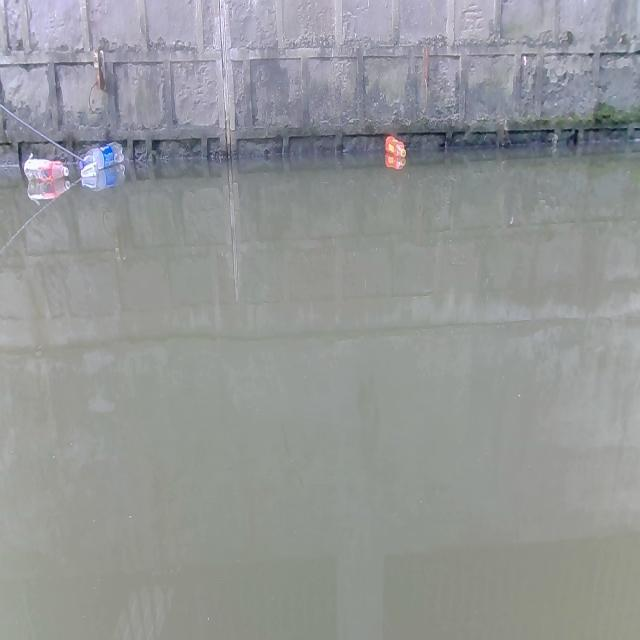bottle: (21, 156, 68, 186), (79, 143, 125, 169), (386, 134, 408, 163), (78, 160, 100, 181)
